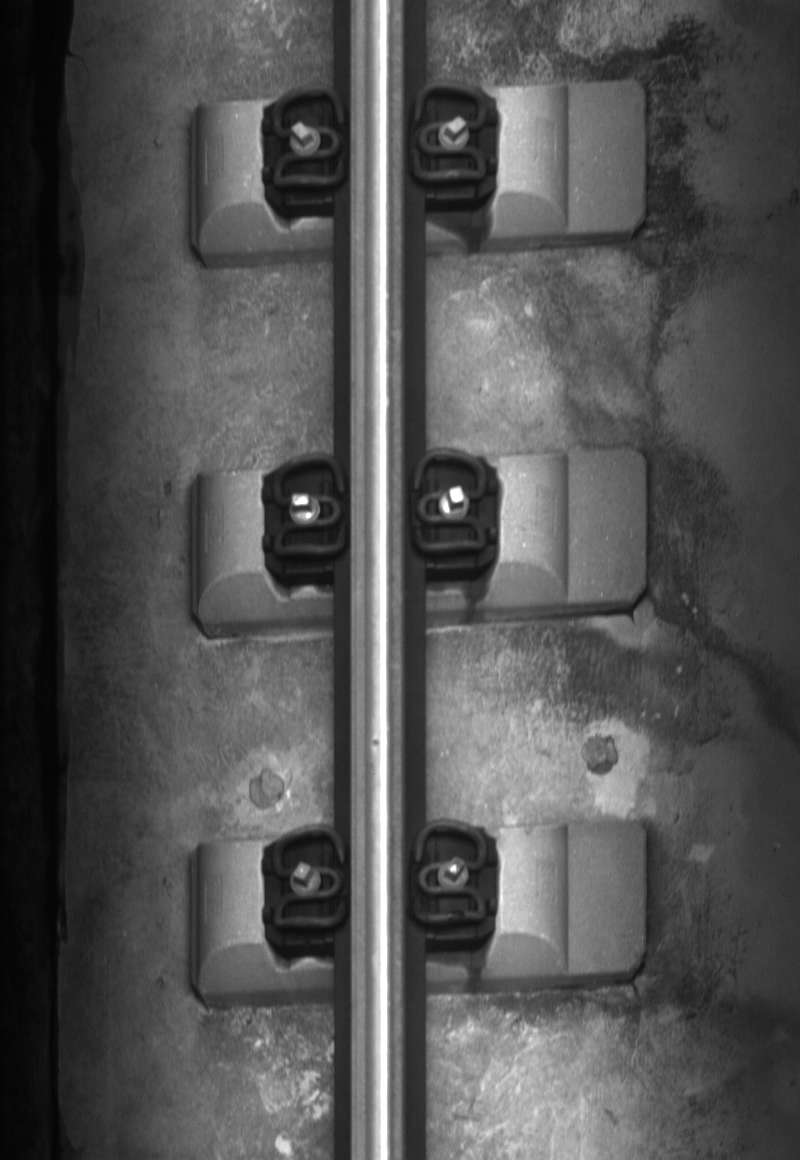l_faster: (264, 80, 345, 197), (267, 820, 350, 934), (268, 451, 349, 560)
r_faster: (407, 817, 494, 937), (408, 80, 492, 188), (411, 446, 489, 557)
